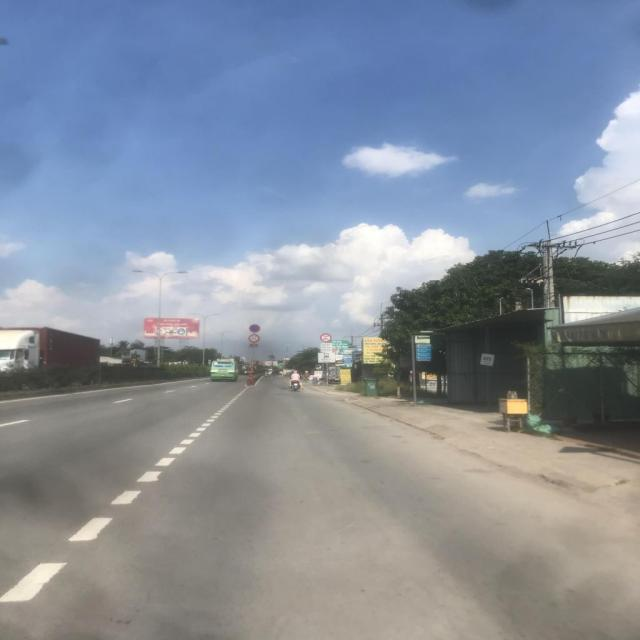cam_dung_xe_va_do_xe: (250, 324, 260, 332)
cam_o_to_tai_va_xe_khach: (320, 333, 332, 342)
cam_xe_2_banh_va_xe_3_banh_co_dong_co: (248, 334, 260, 342)
khac: (318, 352, 336, 362), (320, 343, 332, 352)
